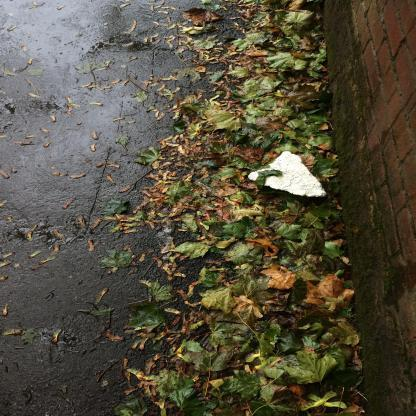kopuk: (248, 152, 328, 198)
